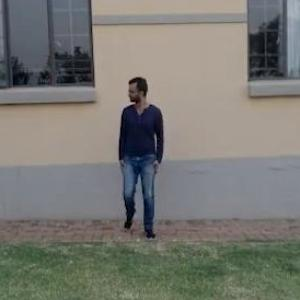follow: (116, 74, 163, 236)
